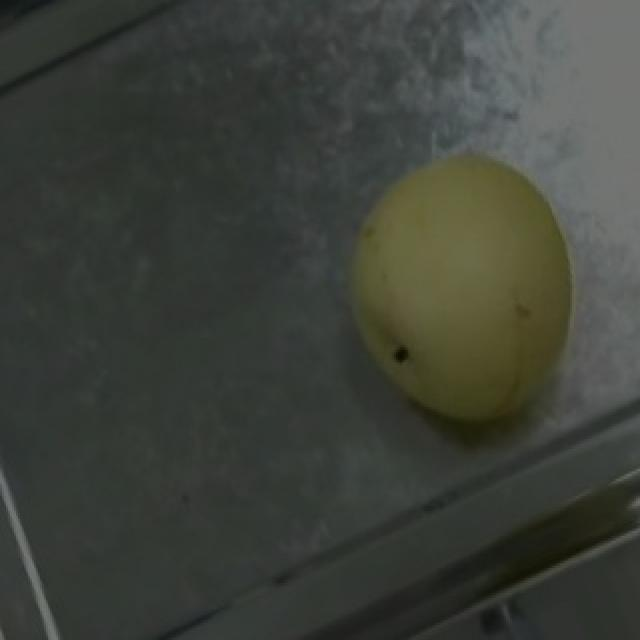Fruit: (300, 119, 624, 484)
